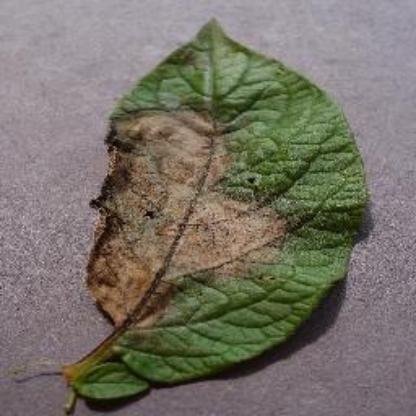Late-Blight: (53, 8, 373, 416)
